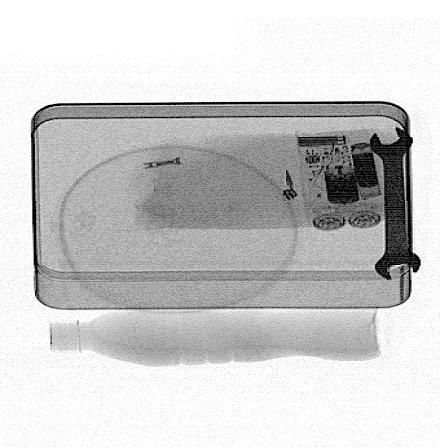Wrench: (367, 124, 421, 281)
